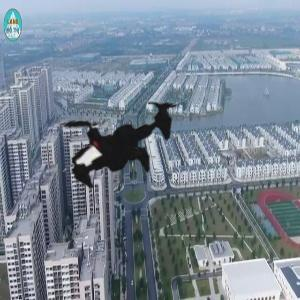drone: (26, 42, 212, 228)
